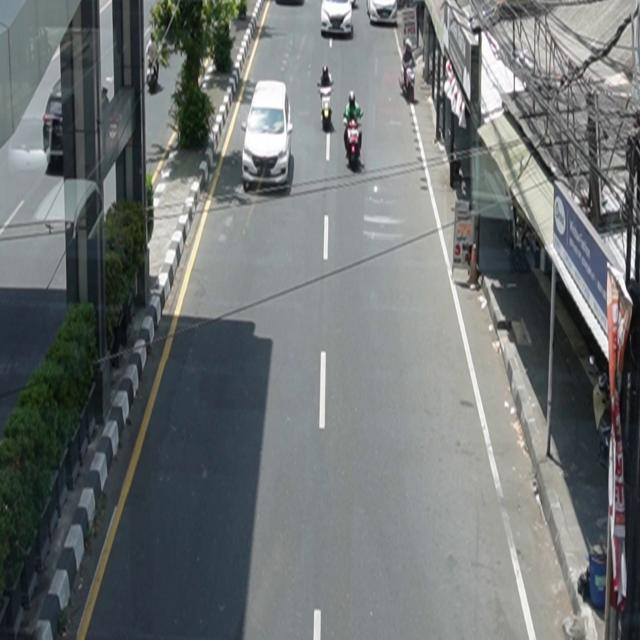car: (242, 80, 294, 193), (321, 1, 353, 38), (367, 1, 398, 26)
